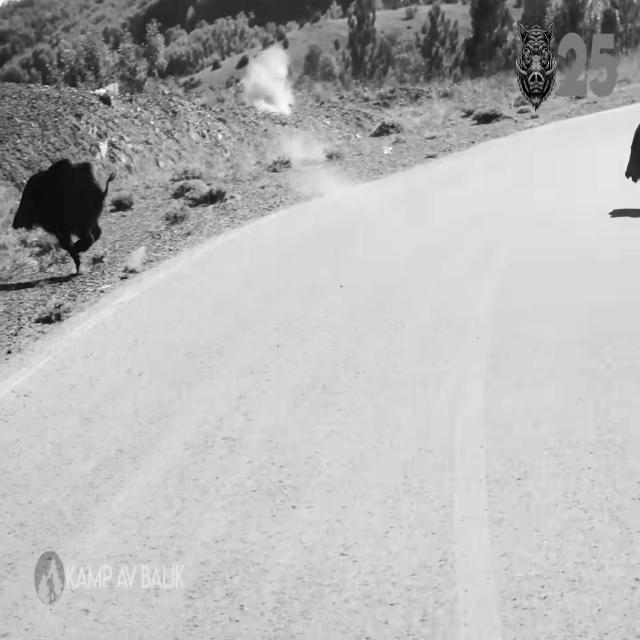boar: (12, 159, 115, 272), (515, 21, 556, 110)
